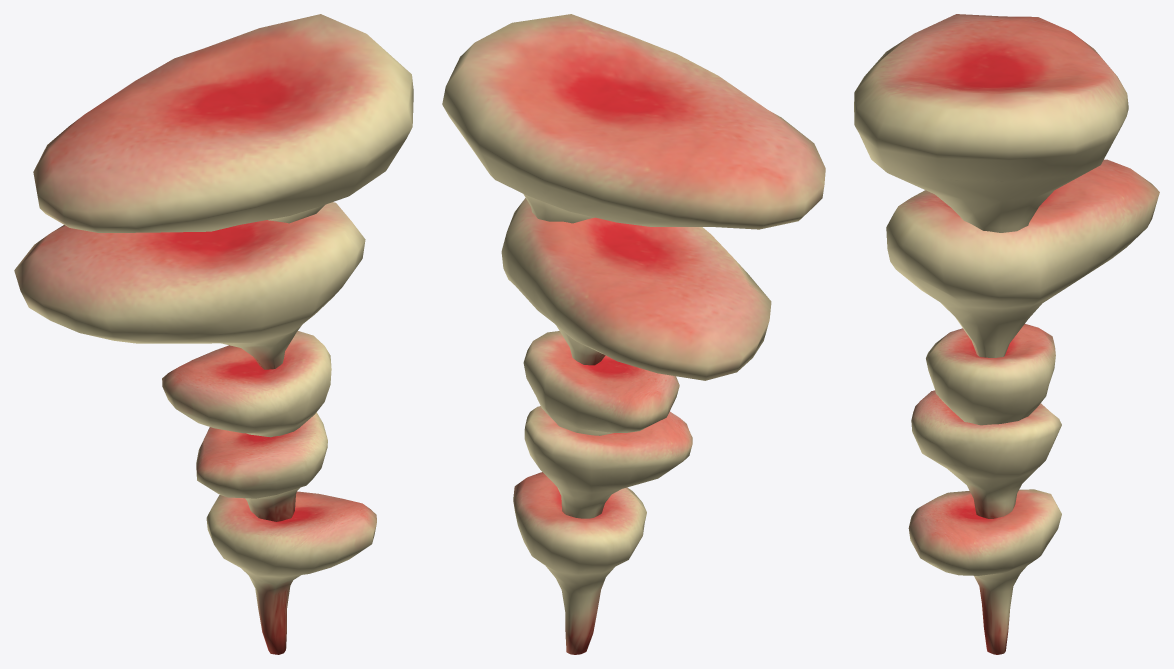
The model's file is Cartoon Seaweed_13-1-3.fbx.
3 views of the same model, side by side, from view 1: azimuth 30°, elevation 25°; view 2: azimuth 150°, elevation 25°; view 3: azimuth 270°, elevation 25° (orthographic).
Parts seen in each view (by area): view 1: Cartoon Seaweed_13.1.3; view 2: Cartoon Seaweed_13.1.3; view 3: Cartoon Seaweed_13.1.3.
Boxes of the visible parts, left/top/right/bottom form: Cartoon Seaweed_13.1.3: left=14, top=14, right=413, bottom=654; Cartoon Seaweed_13.1.3: left=442, top=14, right=825, bottom=654; Cartoon Seaweed_13.1.3: left=854, top=14, right=1159, bottom=654.
Bounding box in the file's own units: 55.26 × 90.79 × 42.49.
Materials: 1 (1 with a texture image).
